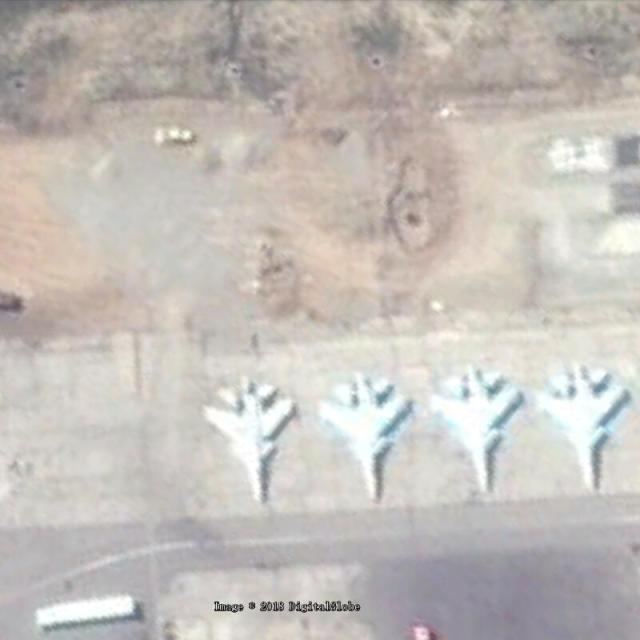fighter jet: (190, 370, 294, 500), (317, 368, 413, 493), (431, 367, 520, 488), (536, 364, 628, 478)
